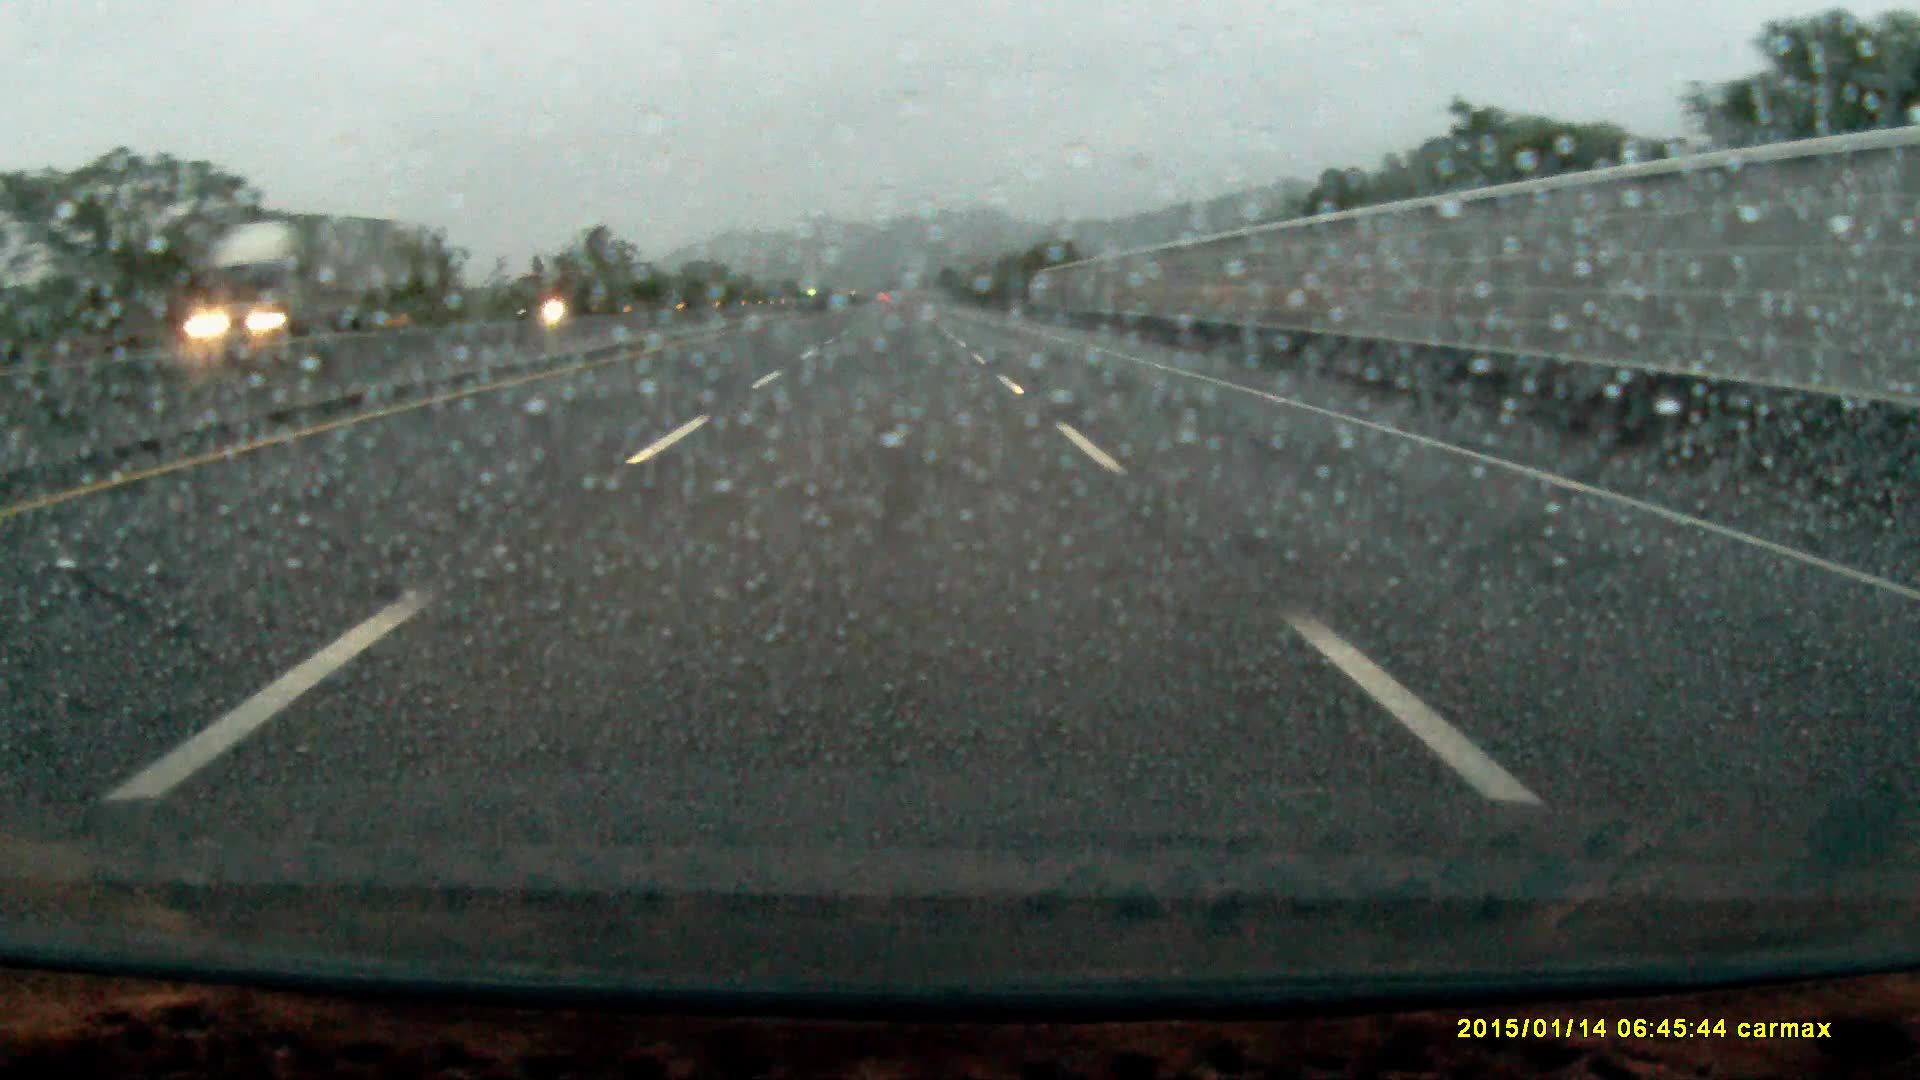vehicle: (186, 222, 400, 343), (526, 287, 617, 323)
